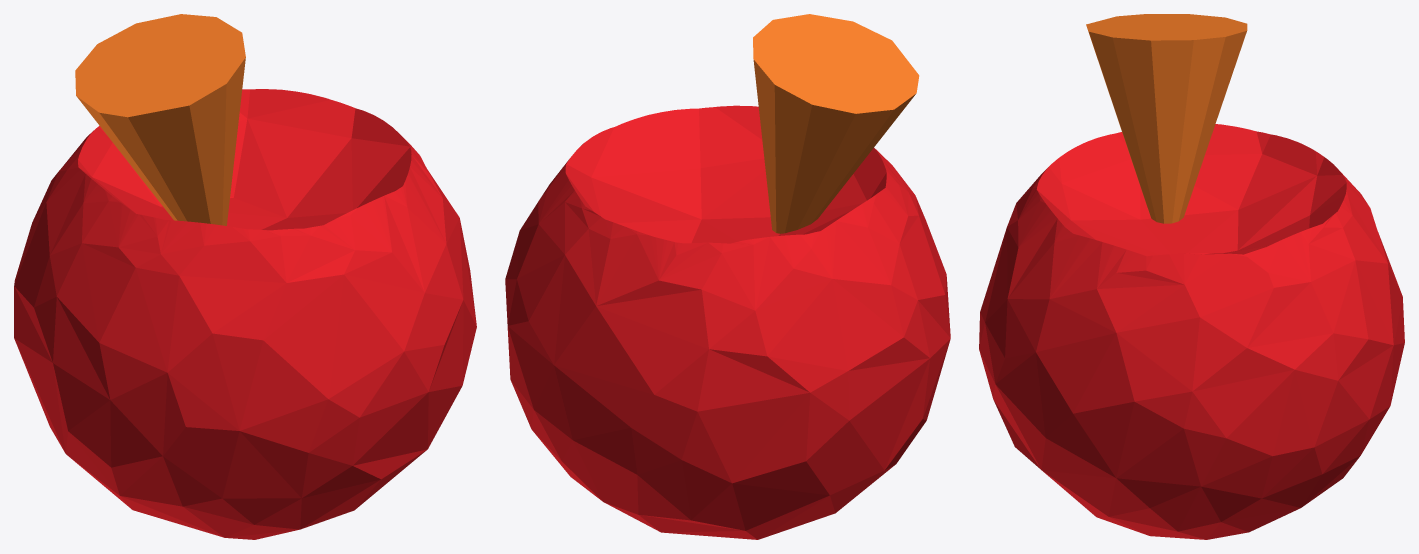
The model's file is cherry2.glb.
3 views of the same model, side by side, from view 1: azimuth 30°, elevation 25°; view 2: azimuth 150°, elevation 25°; view 3: azimuth 270°, elevation 25° (orthographic). The views are drawn at different scales.
Bounding box in the file's own units: 0.0399 × 0.0476 × 0.0396.
